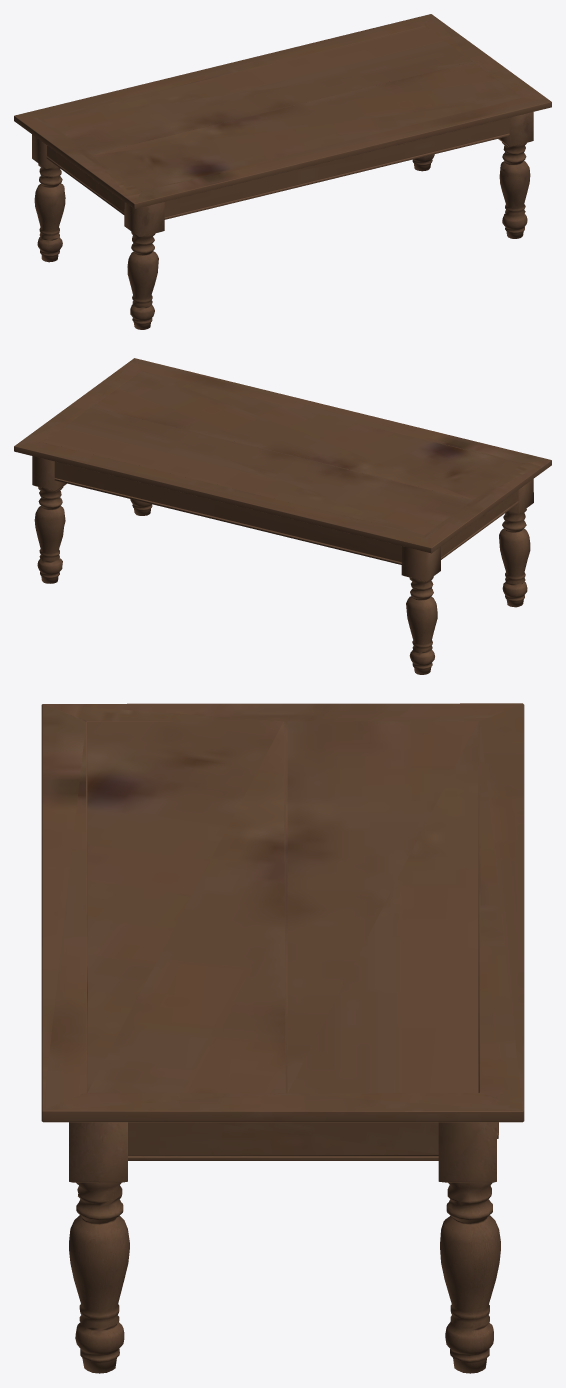
File: dining_table.glb
3 views of the same model, one above another, from view 1: azimuth 30°, elevation 25°; view 2: azimuth 150°, elevation 25°; view 3: azimuth 270°, elevation 25° (orthographic). The views are drawn at different scales.
Size of the model in its own units: 0.9497 by 0.3023 by 0.4752.
Materials: 1 (1 with a texture image).
